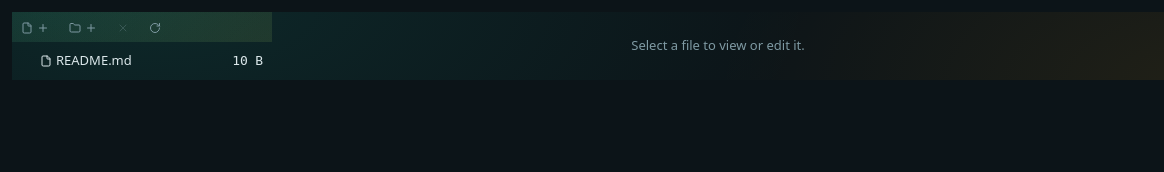
Scenario: ExplorerView › opens a text file into the editor, showing its path
Check: the text "README.md" is shown, box 56,51 -> 132,69
Click the button with test id "explorer-item".
click(94, 60)  # box 12,44 -> 272,76
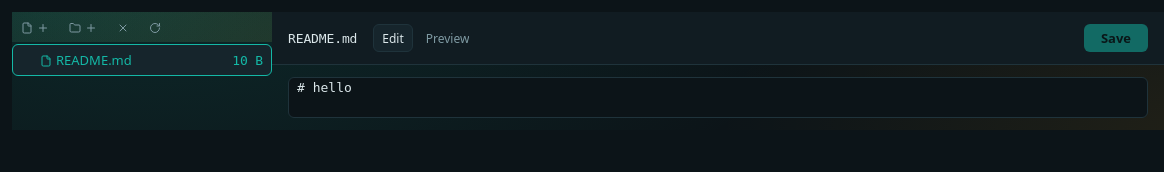
Check: the text box is shown, box 288,77 -> 1148,118
Check: the 1st text "README.md" is shown, box 288,30 -> 357,46
